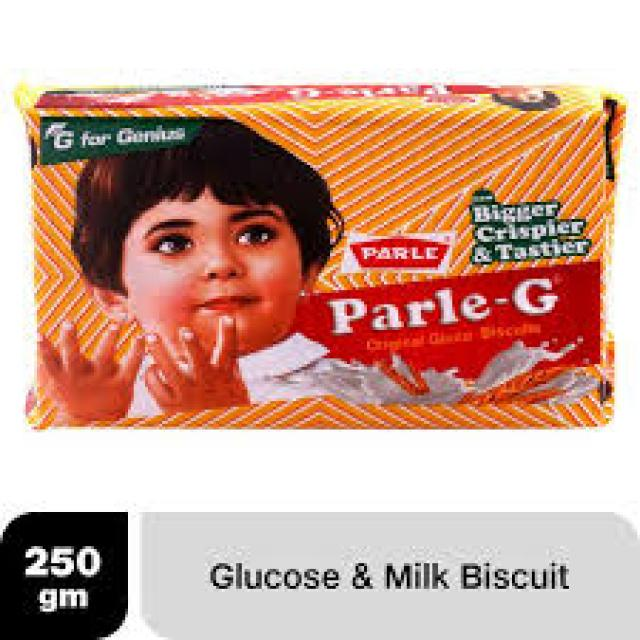parle-g: (16, 84, 614, 427)
